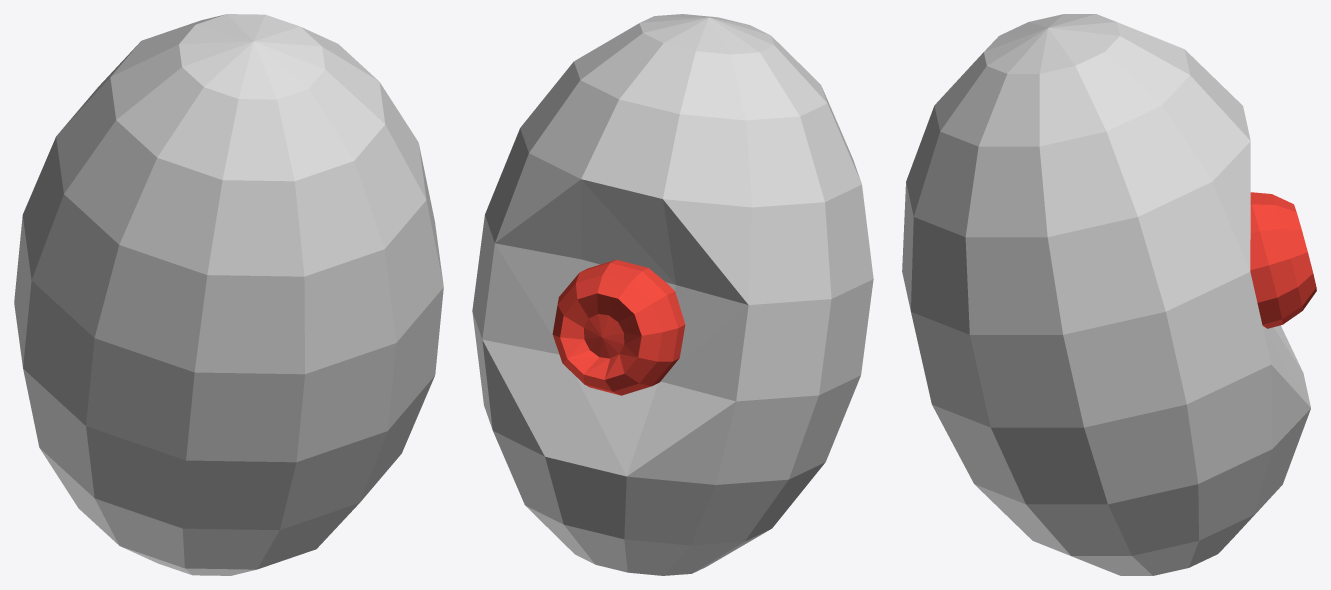
The picture shows the model from 3 angles, left to right: view 1: azimuth 30°, elevation 25°; view 2: azimuth 150°, elevation 25°; view 3: azimuth 270°, elevation 25°; orthographic projection. The views are drawn at different scales.
Parts seen in each view (by area): view 1: mesh_393629219; view 2: mesh_393629219, mesh_1320233954; view 3: mesh_393629219, mesh_1320233954.
Boxes of the visible parts, left/top/right/bottom form: mesh_393629219: left=14, top=14, right=443, bottom=575; mesh_393629219: left=472, top=14, right=873, bottom=575; mesh_1320233954: left=552, top=259, right=685, bottom=395; mesh_393629219: left=902, top=14, right=1310, bottom=575; mesh_1320233954: left=1250, top=192, right=1316, bottom=328.
Size of the model in its own units: 48.84 by 70.47 by 50.21.
